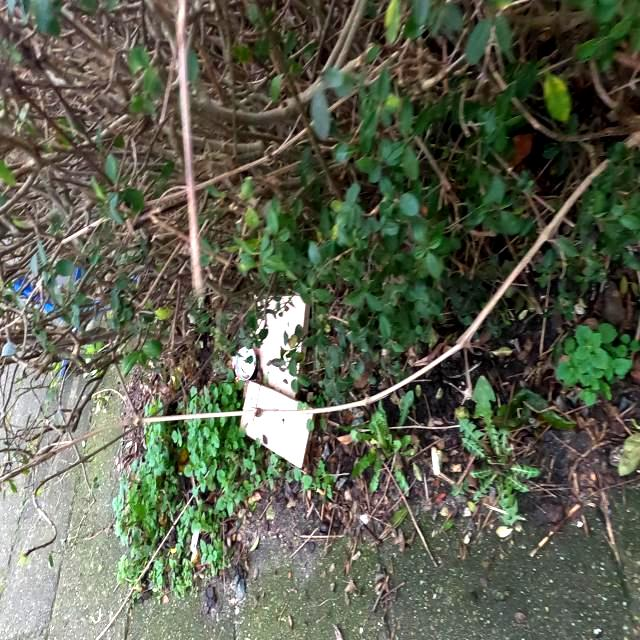Metal: (232, 342, 260, 386)
